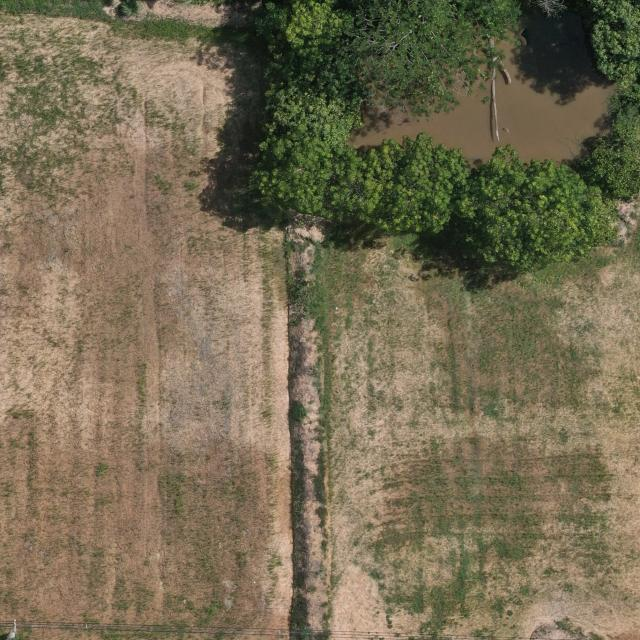Tree: (463, 142, 603, 277), (355, 0, 511, 119), (329, 133, 469, 234), (242, 129, 362, 218), (253, 8, 359, 100), (577, 89, 640, 204), (257, 89, 364, 146), (584, 0, 640, 90), (276, 0, 339, 42)
